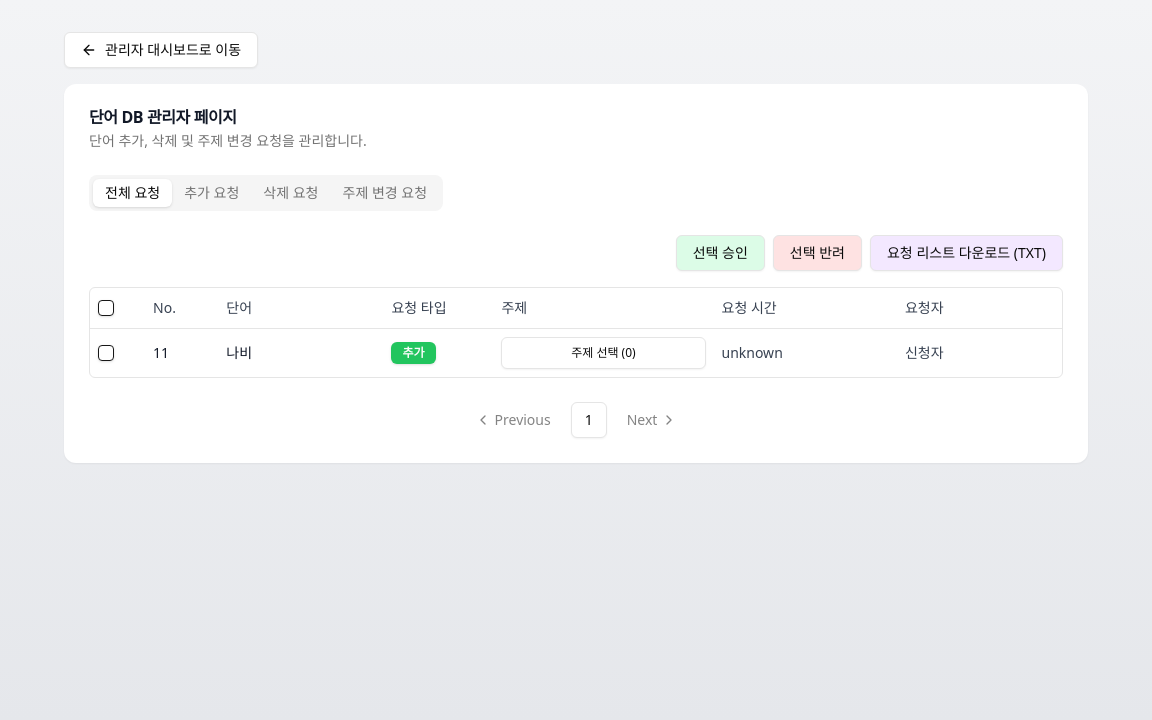
Test: AdminRequestHome › validation 실패는 선택을 유지하고 안전한 메시지만 보여준다
Click the checkbox named "나비 선택".
click(106, 352)  # box [98,344,114,360]
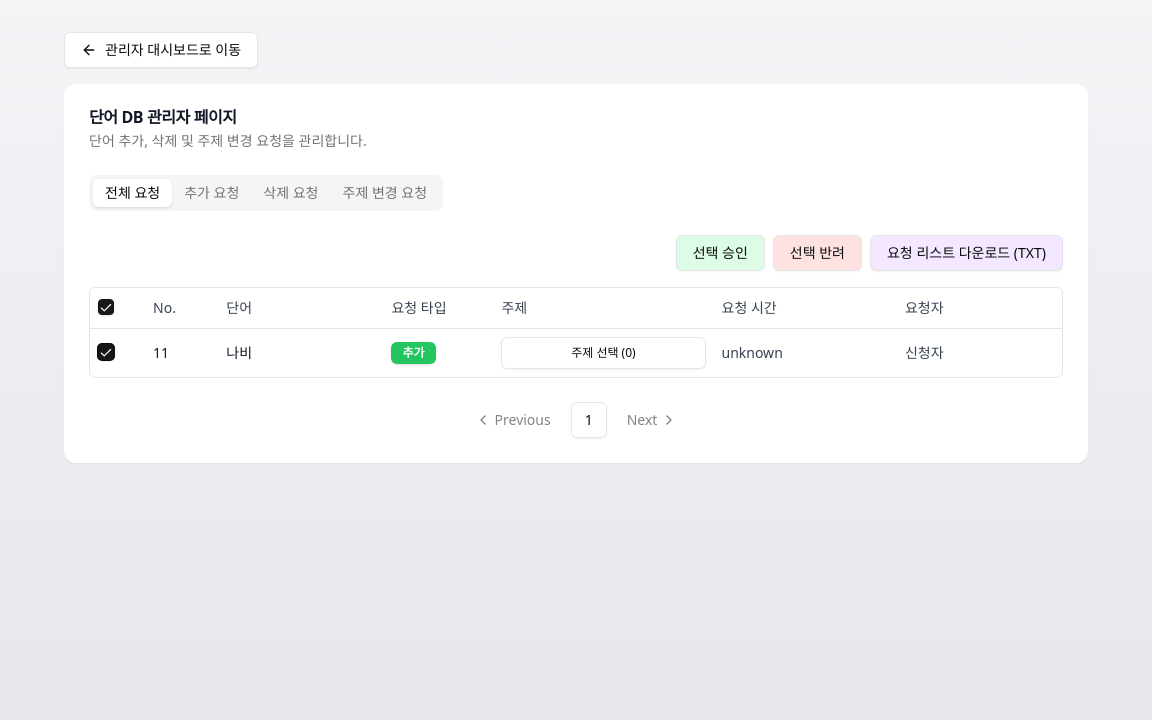
Click the button "선택 승인".
click(720, 253)  # box [676,235,765,271]
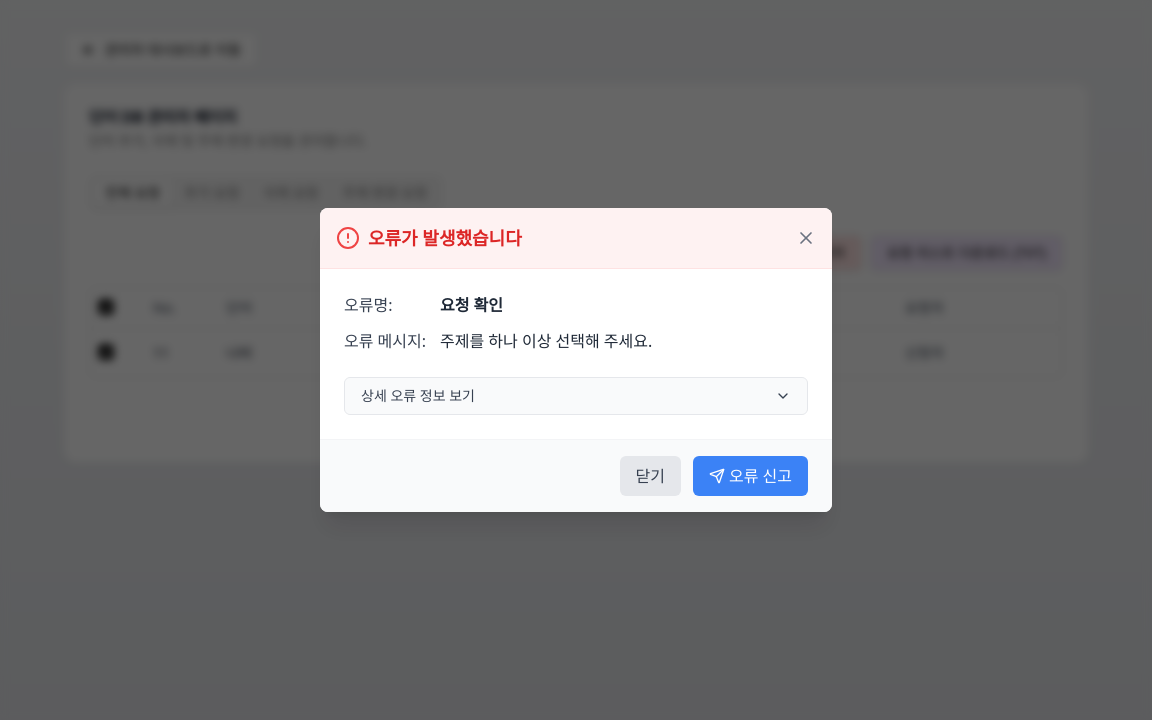
Now the checkbox named "나비 선택" is checked, box [98,344,114,360]
Now the text "주제를 하나 이상 선택해 주세요." is shown, box [440,329,652,353]
